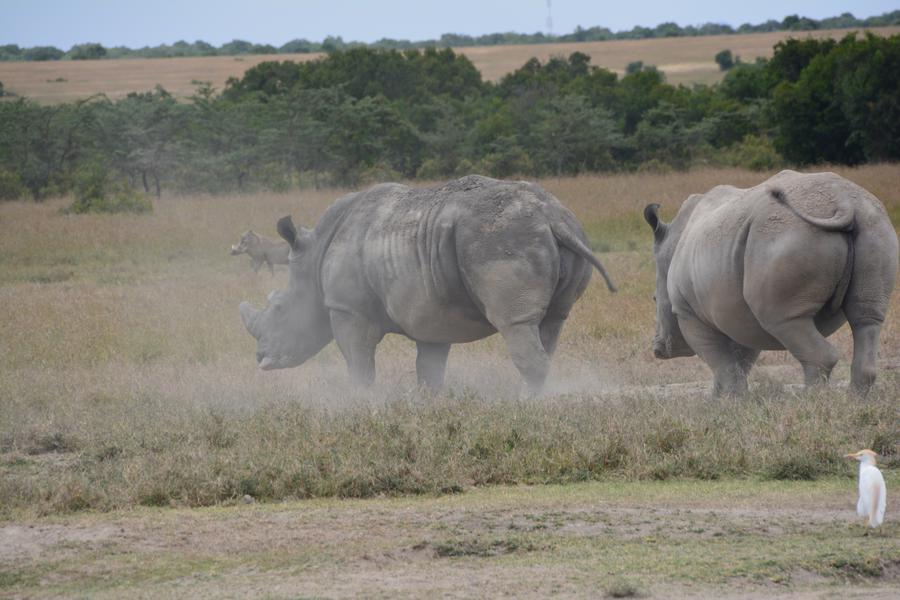rhino: (240, 189, 573, 375), (647, 185, 870, 386)
